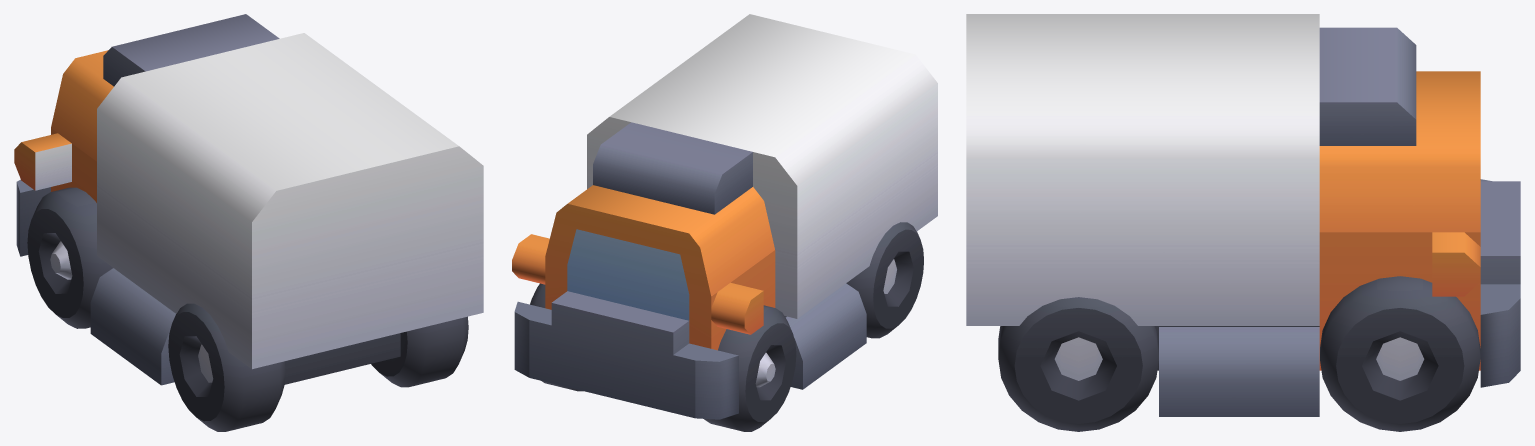
File: kenney-toy-car-vehicle-truck.glb
3 views of the same model, side by side, from view 1: azimuth 30°, elevation 25°; view 2: azimuth 150°, elevation 25°; view 3: azimuth 270°, elevation 25° (orthographic). The views are drawn at different scales.
Parts seen in each view (by area): view 1: vehicle-truck, wheel-bl, wheel-fl, wheel-br; view 2: vehicle-truck, wheel-fl, wheel-bl; view 3: vehicle-truck, wheel-fr, wheel-br.
Part boxes in pixels (x1,y1,x2,y2): vehicle-truck: (14,14,483,385); wheel-bl: (168,303,285,431); wheel-fl: (27,187,112,328); wheel-br: (371,316,468,387); vehicle-truck: (512,14,937,419); wheel-fl: (704,305,796,431); wheel-bl: (846,222,923,338); vehicle-truck: (966,14,1520,416); wheel-fr: (1320,276,1480,431); wheel-br: (998,297,1158,431).
Bounding box in the file's own units: 0.525 × 0.525 × 0.8625.
1 material, 1 textured.
